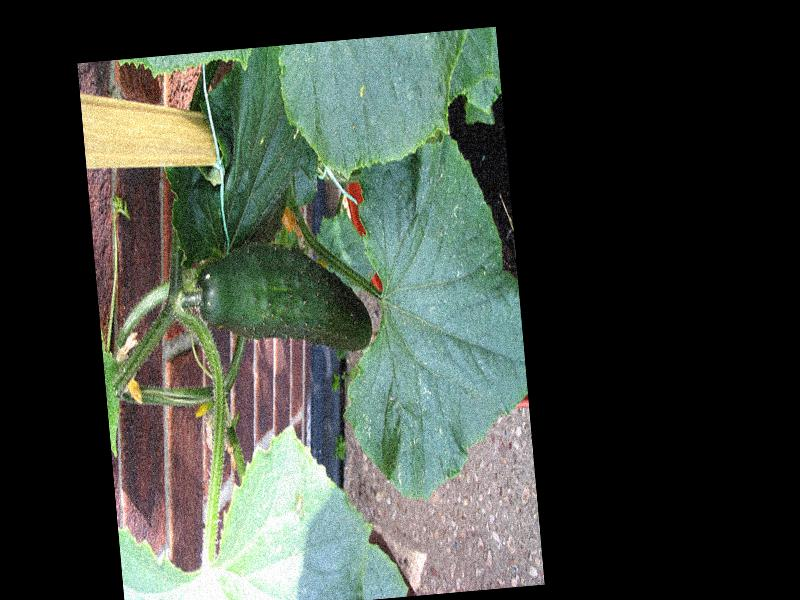Cucumber: (194, 234, 374, 367)
